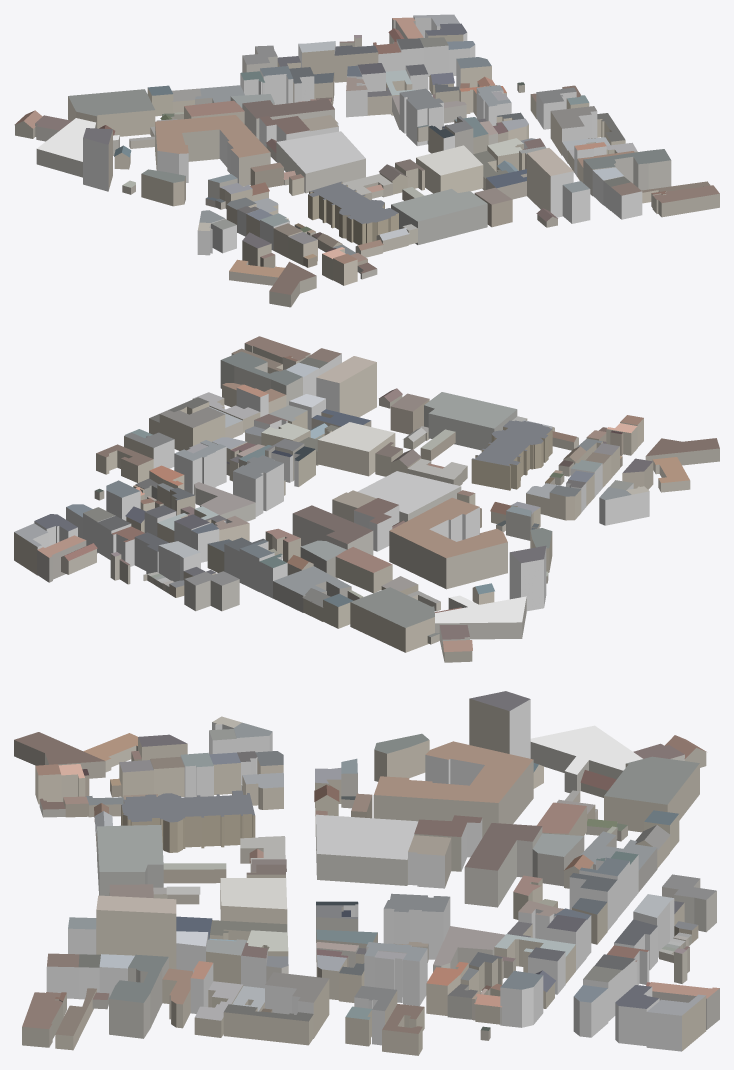
3 renders of one model, top to bottom at view 1: azimuth 30°, elevation 25°; view 2: azimuth 150°, elevation 25°; view 3: azimuth 270°, elevation 25°, orthographic. The views are drawn at different scales.
Parts seen in each view (by area): view 1: tuile; view 2: tuile; view 3: tuile.
Part boxes in pixels (box(x1,y1,x2,y2)): tuile: box(14, 14, 719, 307); tuile: box(14, 336, 719, 662); tuile: box(14, 691, 719, 1055).
Size of the model in its own units: 277 by 33.14 by 271.
